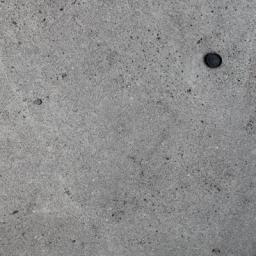FOD: (203, 49, 227, 74)
